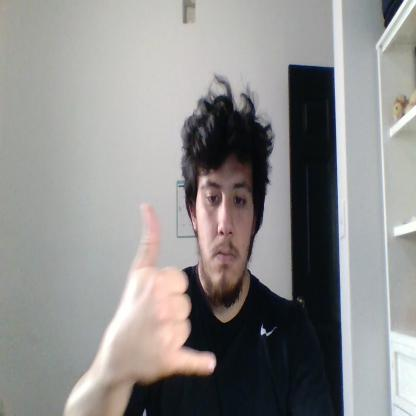Y: (121, 202, 216, 382)
